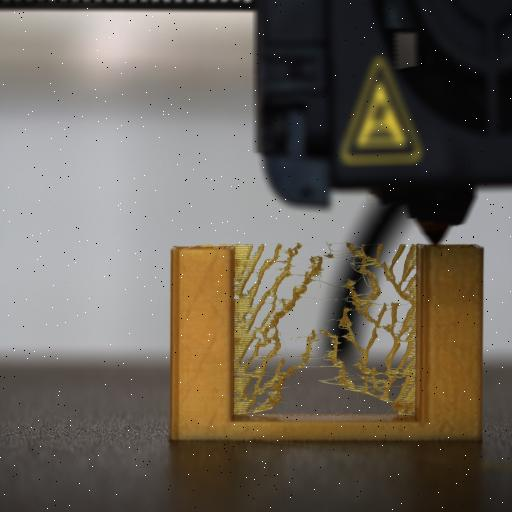stringing: (234, 242, 416, 416)
